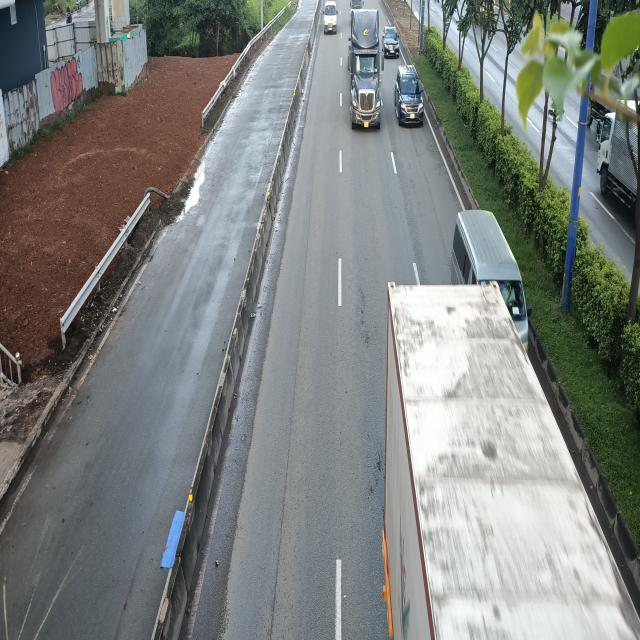car: (393, 66, 424, 128), (383, 22, 401, 54)
container: (382, 284, 630, 640), (347, 6, 384, 127)
van: (451, 204, 528, 347), (322, 1, 338, 35)
